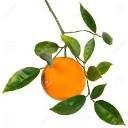orange: (42, 52, 87, 103)
